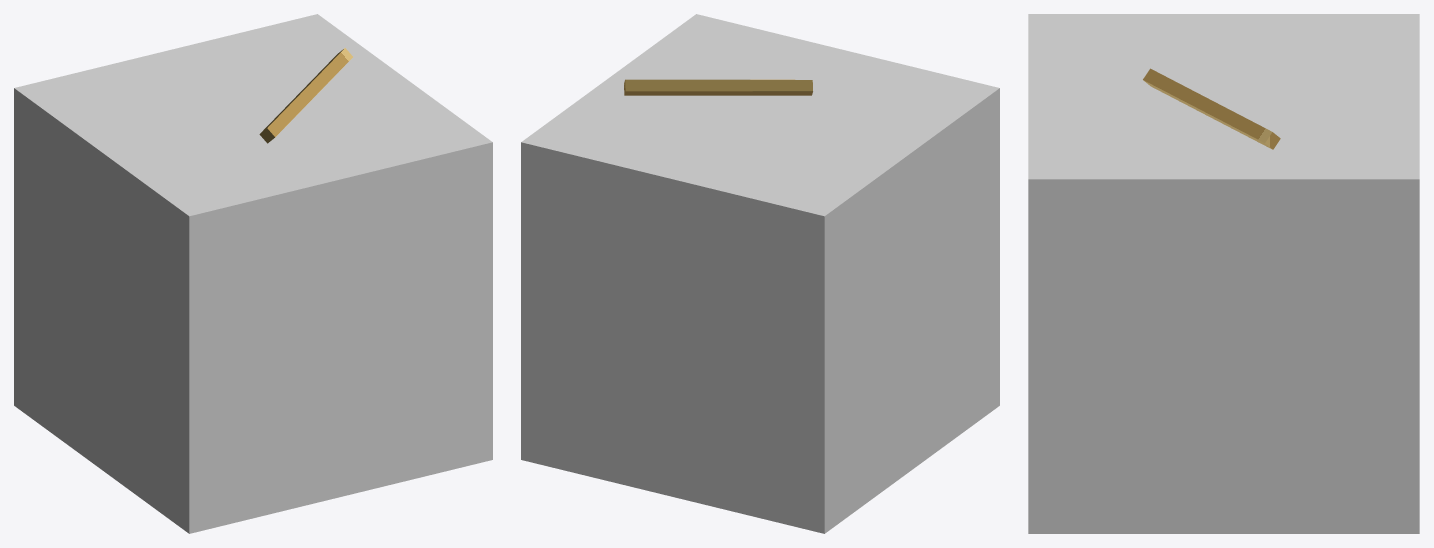
File: JP_Prop_WaterJar_A.glb
3 views of the same model, side by side, from view 1: azimuth 30°, elevation 25°; view 2: azimuth 150°, elevation 25°; view 3: azimuth 270°, elevation 25° (orthographic). The views are drawn at different scales.
Visible parts, largest first — view 1: COL_JP_Prop_WaterJar_A, JP_Prop_WaterJar_A; view 2: COL_JP_Prop_WaterJar_A, JP_Prop_WaterJar_A; view 3: COL_JP_Prop_WaterJar_A, JP_Prop_WaterJar_A.
Boxes of the visible parts, x1,y1,x2,y2 form: COL_JP_Prop_WaterJar_A: (14, 14, 492, 533); JP_Prop_WaterJar_A: (259, 48, 352, 143); COL_JP_Prop_WaterJar_A: (521, 14, 999, 533); JP_Prop_WaterJar_A: (624, 79, 812, 95); COL_JP_Prop_WaterJar_A: (1028, 14, 1419, 533); JP_Prop_WaterJar_A: (1143, 68, 1280, 149).
Size of the model in its own units: 0.8 by 0.86 by 0.8.
3 materials, 3 textured.
